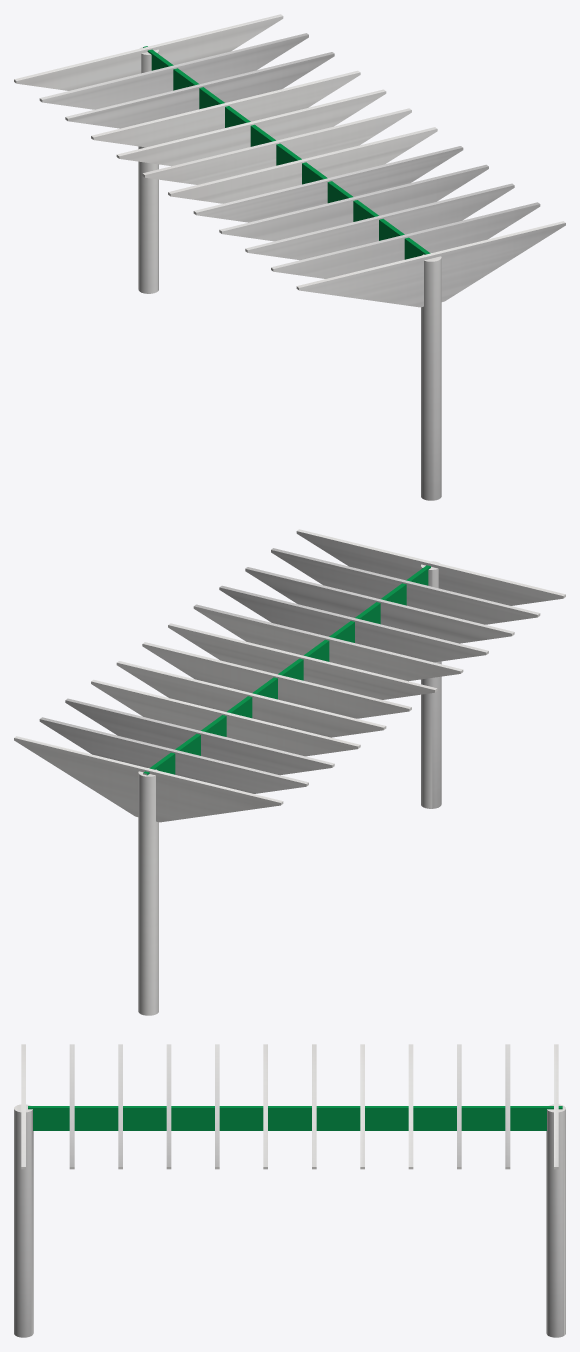
File: Tram Stop.fbx
3 renders of one model, top to bottom at view 1: azimuth 30°, elevation 25°; view 2: azimuth 150°, elevation 25°; view 3: azimuth 270°, elevation 25°, orthographic. The views are drawn at different scales.
Visible parts, largest first — view 1: Tram_Stop; view 2: Tram_Stop; view 3: Tram_Stop.
Part boxes in pixels (<box>): Tram_Stop: <box>14,14,565,500</box>; Tram_Stop: <box>14,529,565,1015</box>; Tram_Stop: <box>14,1044,565,1337</box>.
Bounding box in the file's own units: 300 × 260 × 570.
